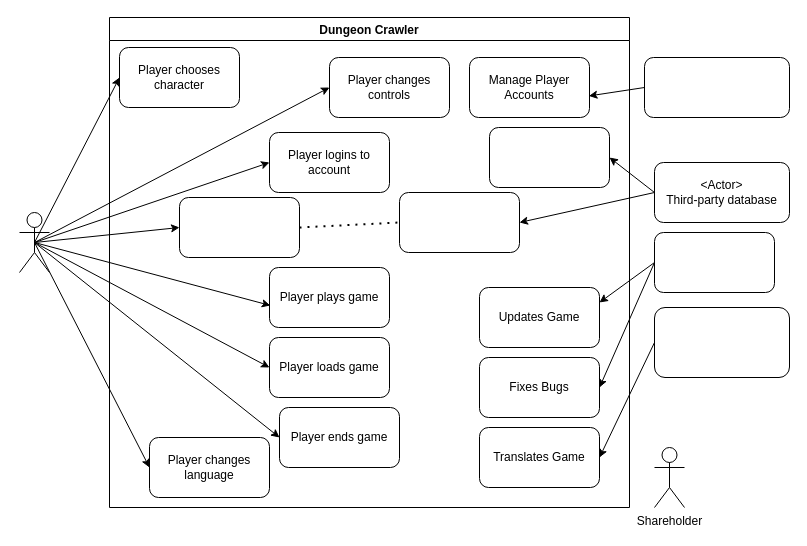
This 807x546 diagram has some shape labels left out. The box of each missing label's shape, as (x1, y1, x2, y2) in pixels:
<Actor> Contractor Company that localizes to different languages: (654, 306, 790, 378)
<Actor> Game Administration: (644, 56, 790, 118)
<Actor> Game Developers: (654, 232, 774, 292)
Player: (18, 212, 50, 272)
Player saves Score: (178, 196, 300, 258)
Record number of players worldwide: (488, 126, 610, 188)
Updates Player Score: (398, 192, 520, 252)
